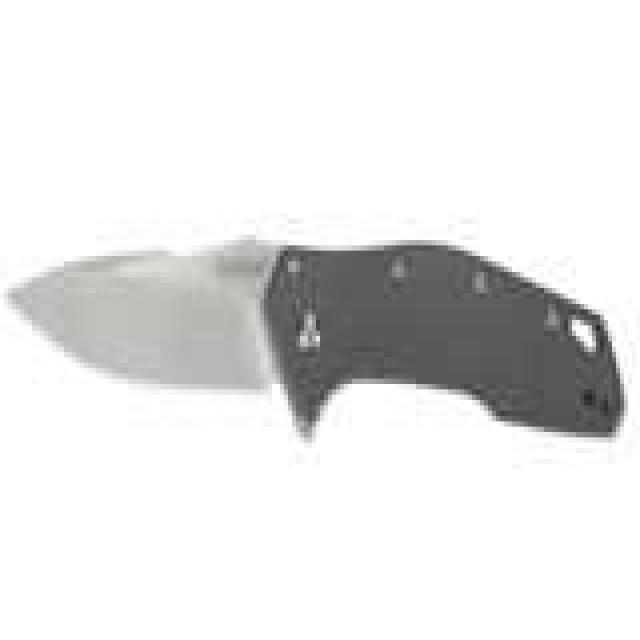Knife: (0, 238, 640, 454)
